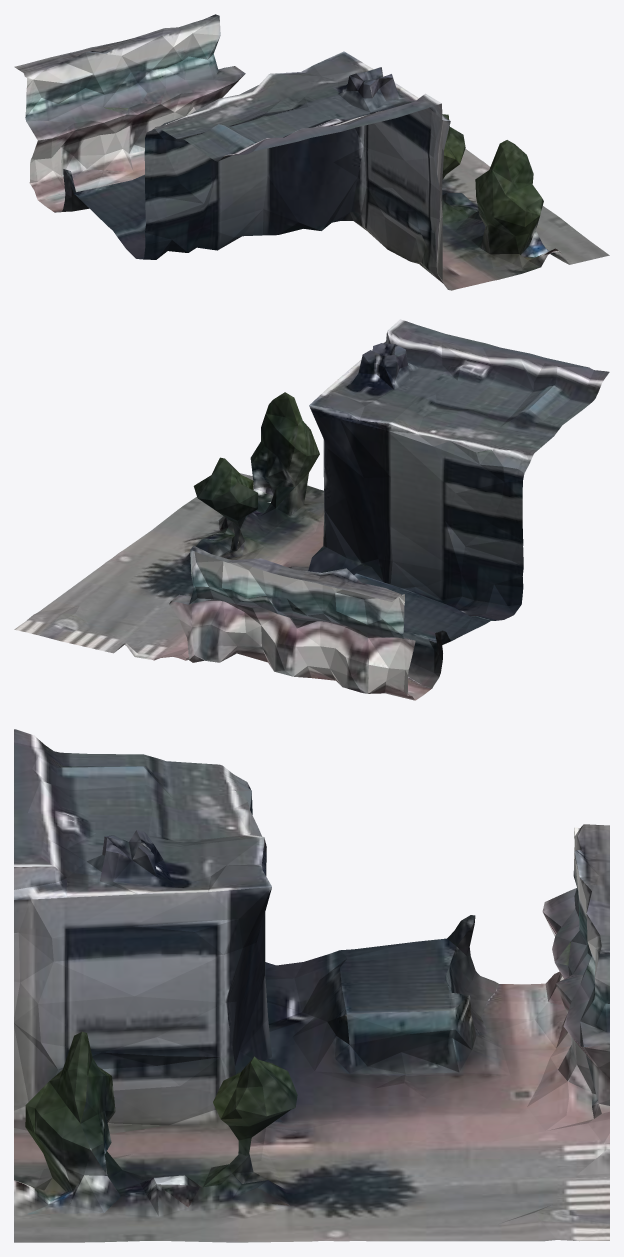
File: helsinki-1-5.glb
3 views of the same model, one above another, from view 1: azimuth 30°, elevation 25°; view 2: azimuth 150°, elevation 25°; view 3: azimuth 270°, elevation 25° (orthographic). The views are drawn at different scales.
Size of the model in its own units: 31.75 by 16.11 by 31.75.
1 material, 1 textured.
